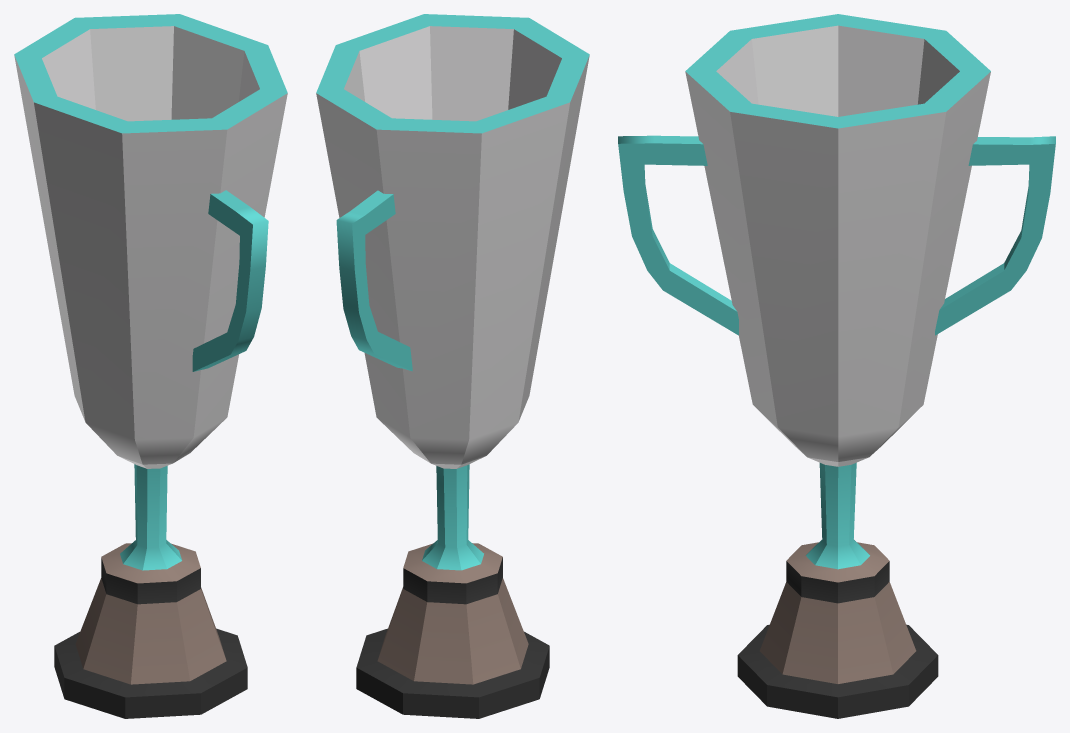
Rendered from Trophy_Award_Silver_Large.fbx.
The picture shows the model from 3 angles, left to right: view 1: azimuth 30°, elevation 25°; view 2: azimuth 150°, elevation 25°; view 3: azimuth 270°, elevation 25°; orthographic projection.
Visible parts, largest first — view 1: Trophy_Silver1; view 2: Trophy_Silver1; view 3: Trophy_Silver1.
Boxes of the visible parts, bbox=[...] form: Trophy_Silver1: bbox=[14, 14, 287, 718]; Trophy_Silver1: bbox=[316, 14, 589, 718]; Trophy_Silver1: bbox=[618, 14, 1055, 718].
Bounding box in the file's own units: 19.38 × 47.76 × 31.3.
